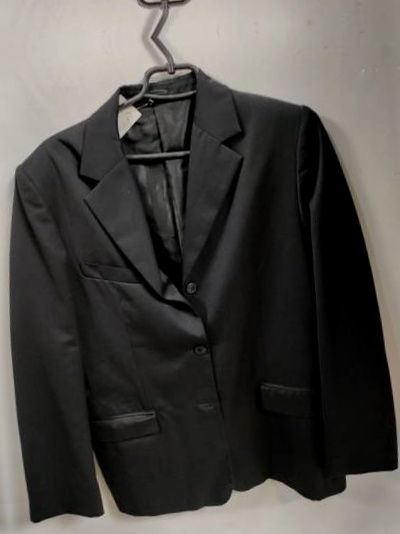Blazer: (0, 68, 381, 534), (0, 0, 330, 6), (0, 104, 3, 534)
